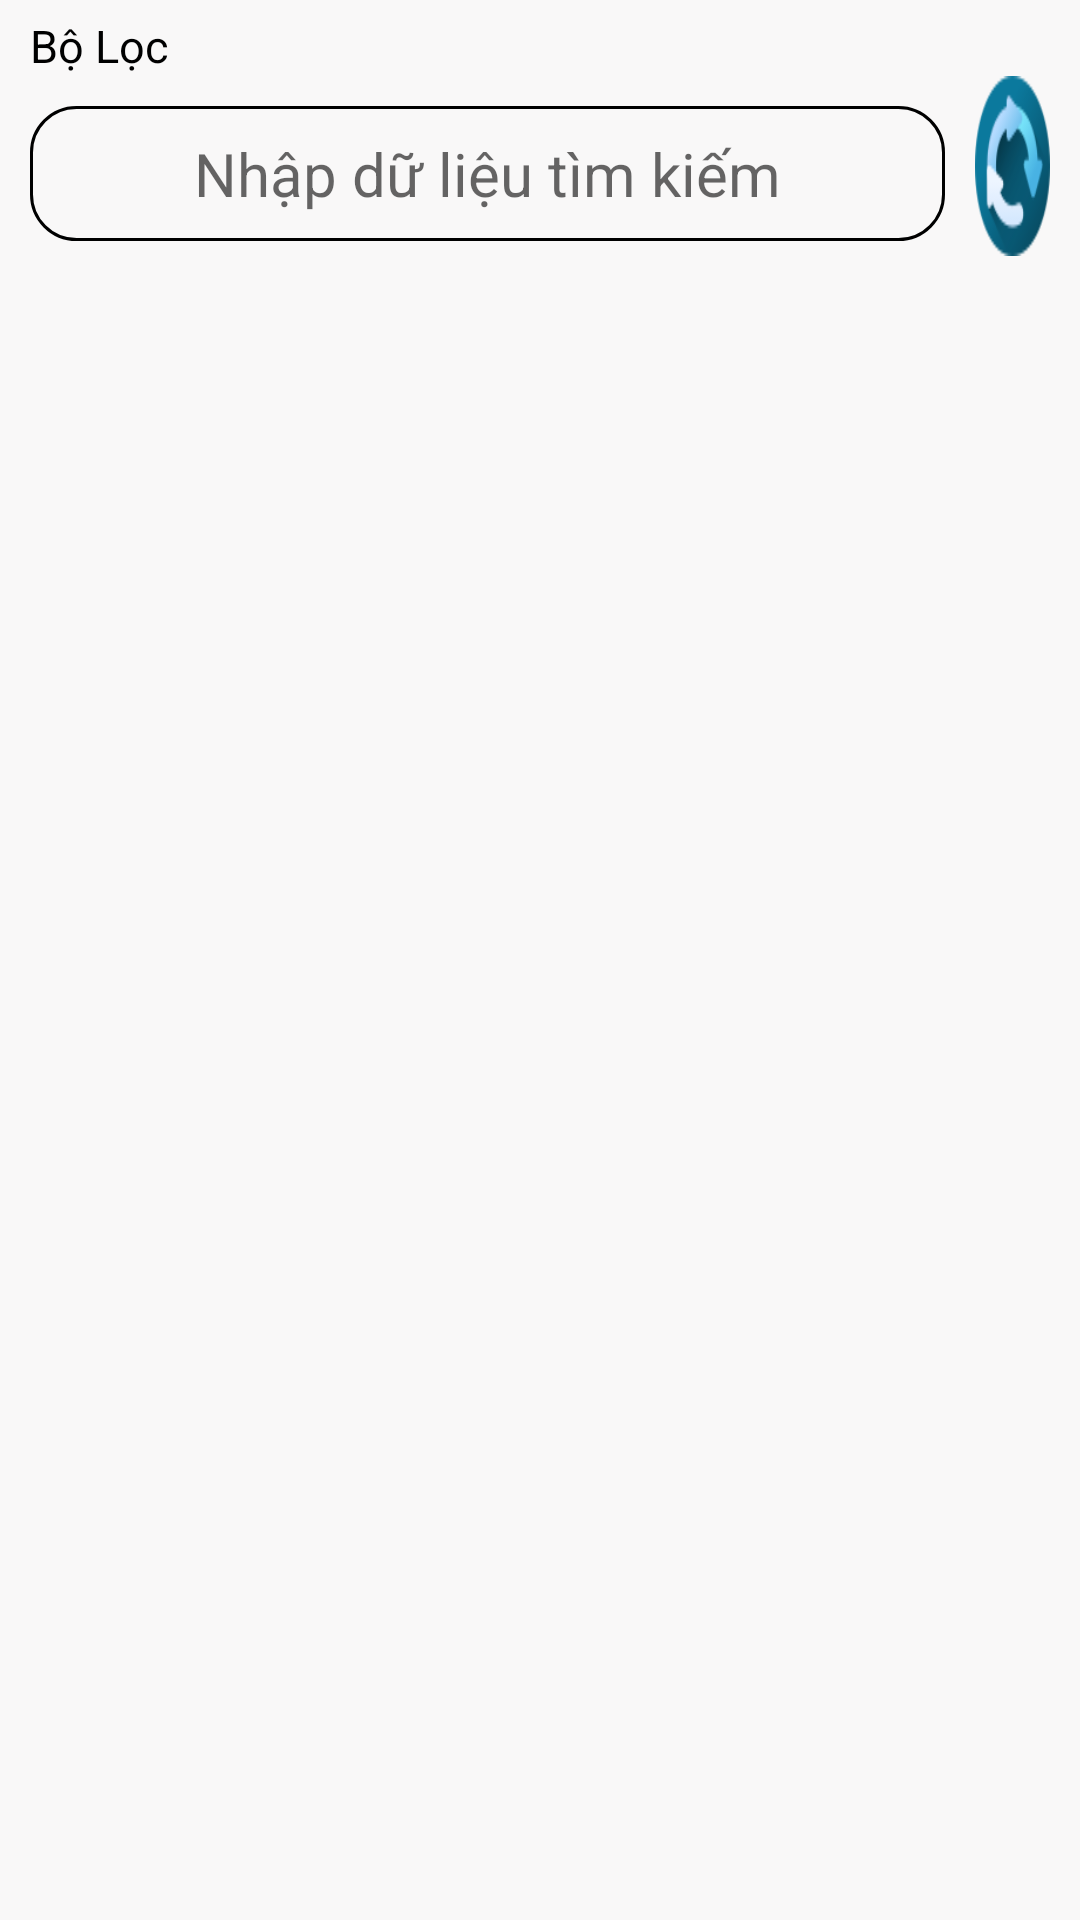

Icons on this 1080*1920 Android screen, each with its box as (x1, y1, x2, y2):
resert: (975, 76, 1050, 256)
